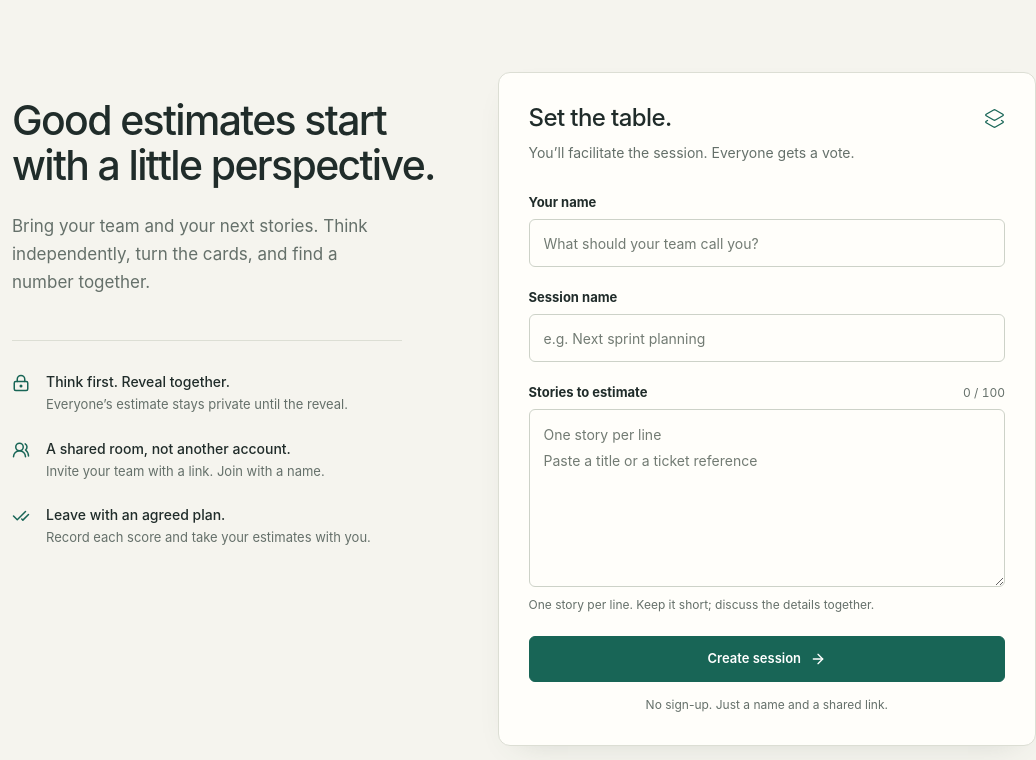
Test: Create session › retains form content and shows a recoverable network error
The width and height of the screenshot is (1036, 760).
Type "Robin" into the field labelled "Your name".
click(767, 243); type("Robin")  # box x1=528 y1=219 x2=1005 y2=267
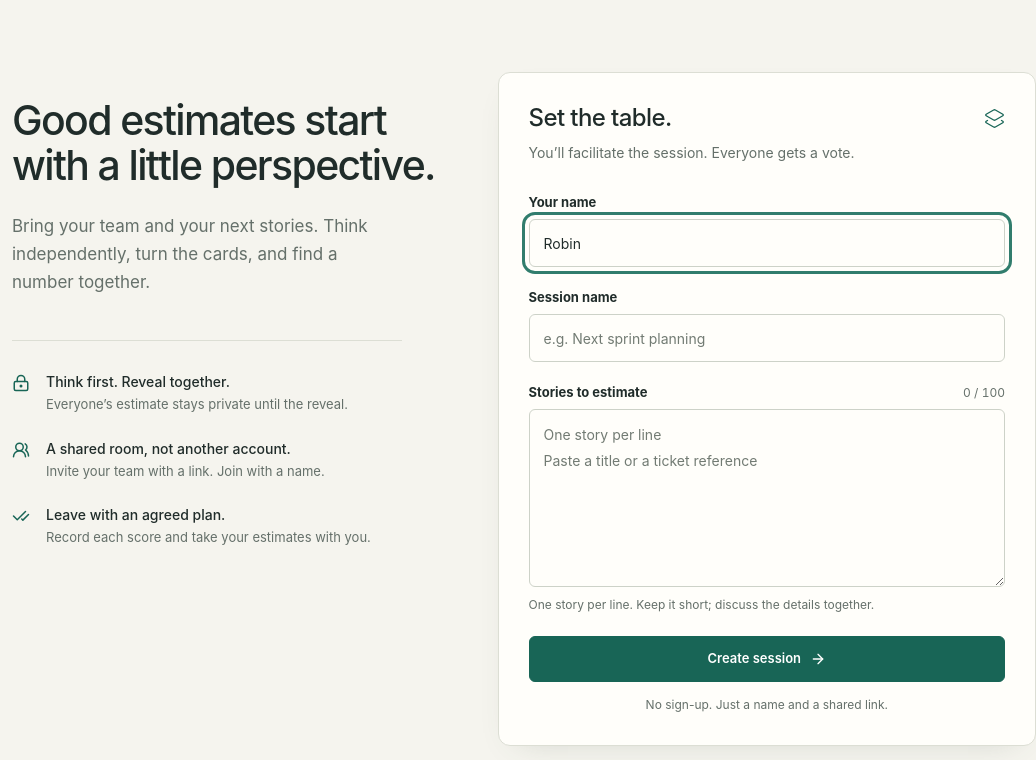
Type "Planning" into the field labelled "Session name".
click(767, 338); type("Planning")  # box x1=528 y1=314 x2=1005 y2=362
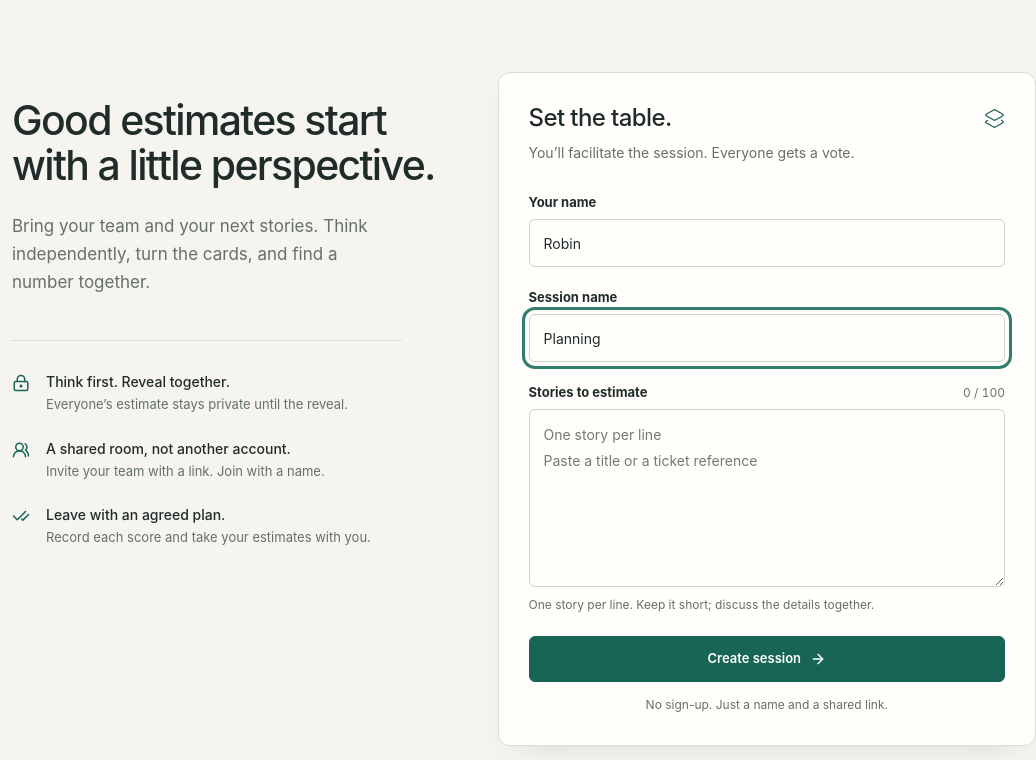
Type "Search" into the text box labelled "Stories to estimate".
click(767, 498); type("Search")  # box x1=528 y1=409 x2=1005 y2=587
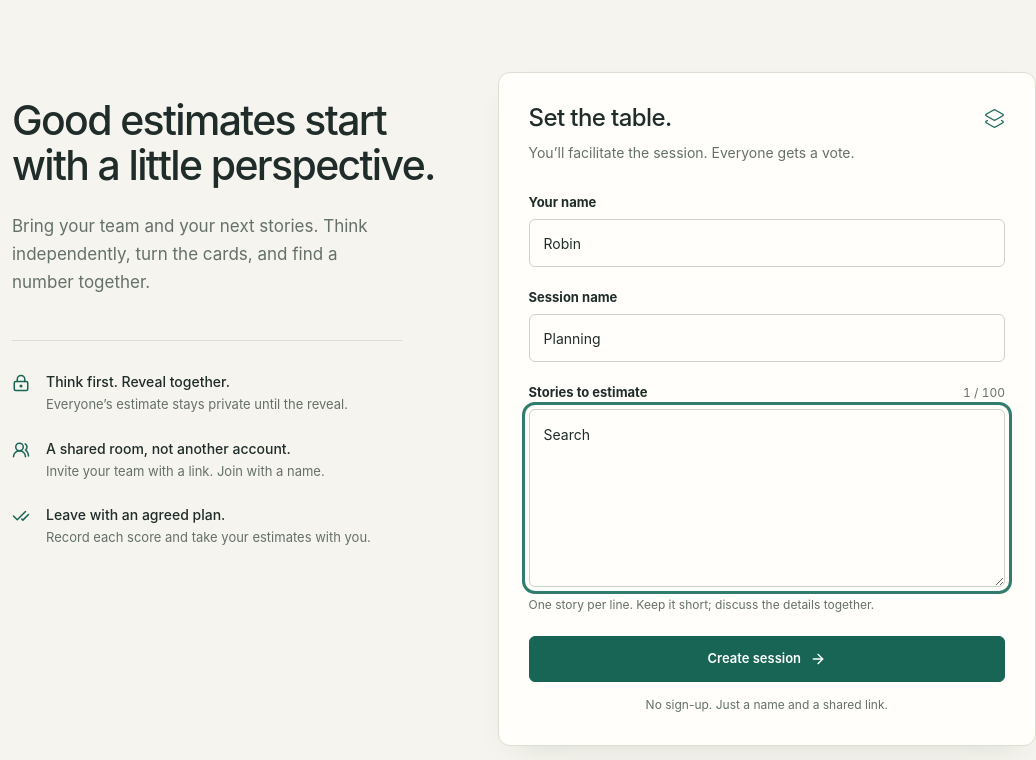
Click the button "Create session".
click(767, 659)  # box x1=528 y1=636 x2=1005 y2=682
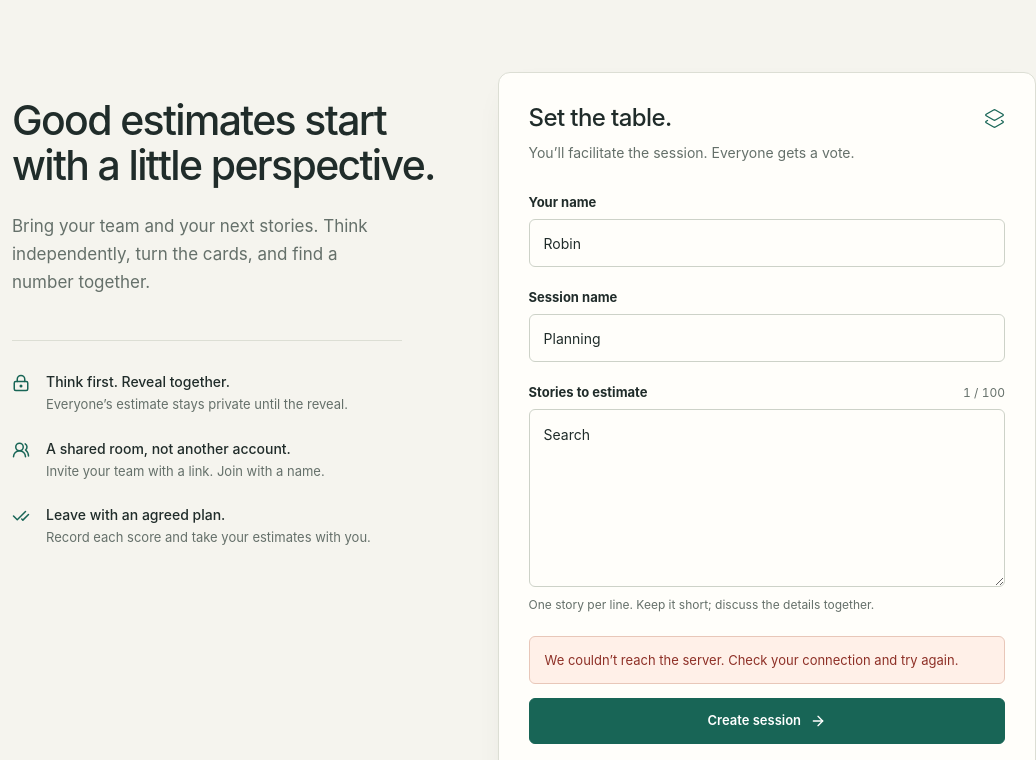
Expected: the button "Create session" is enabled, x1=528 y1=698 x2=1005 y2=744
Result: the message shows "Check your connection" at x1=544 y1=652 x2=958 y2=668
